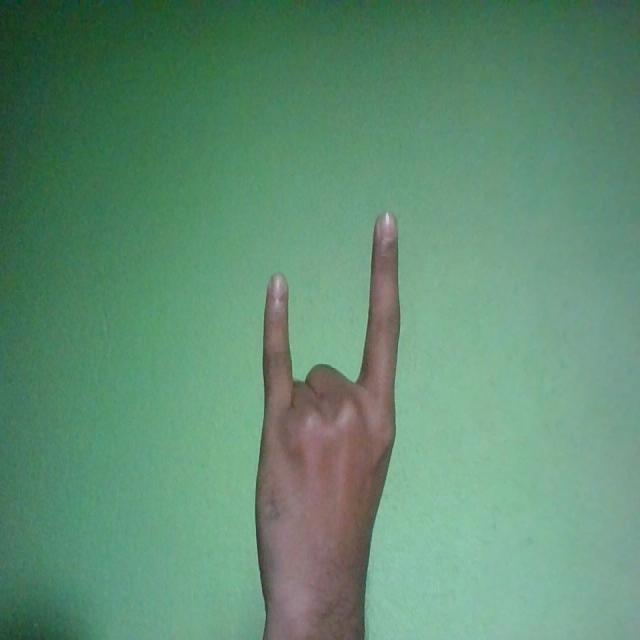open Plam: (255, 210, 400, 635)
